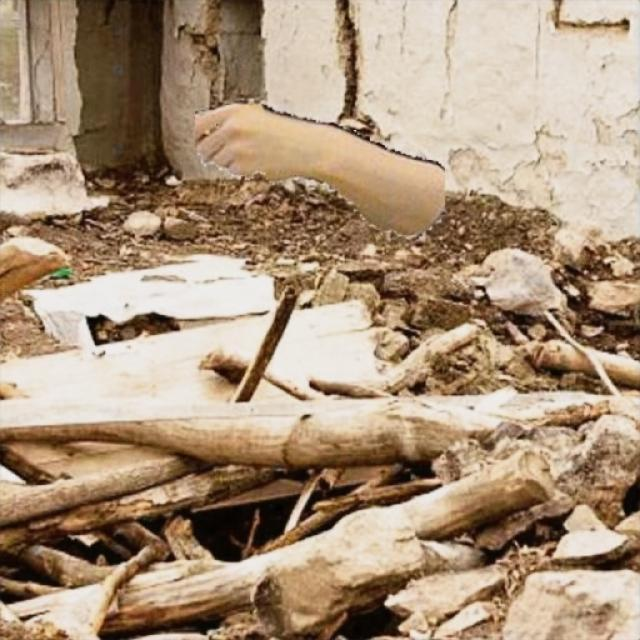Person in Rubble: (195, 99, 444, 238)
